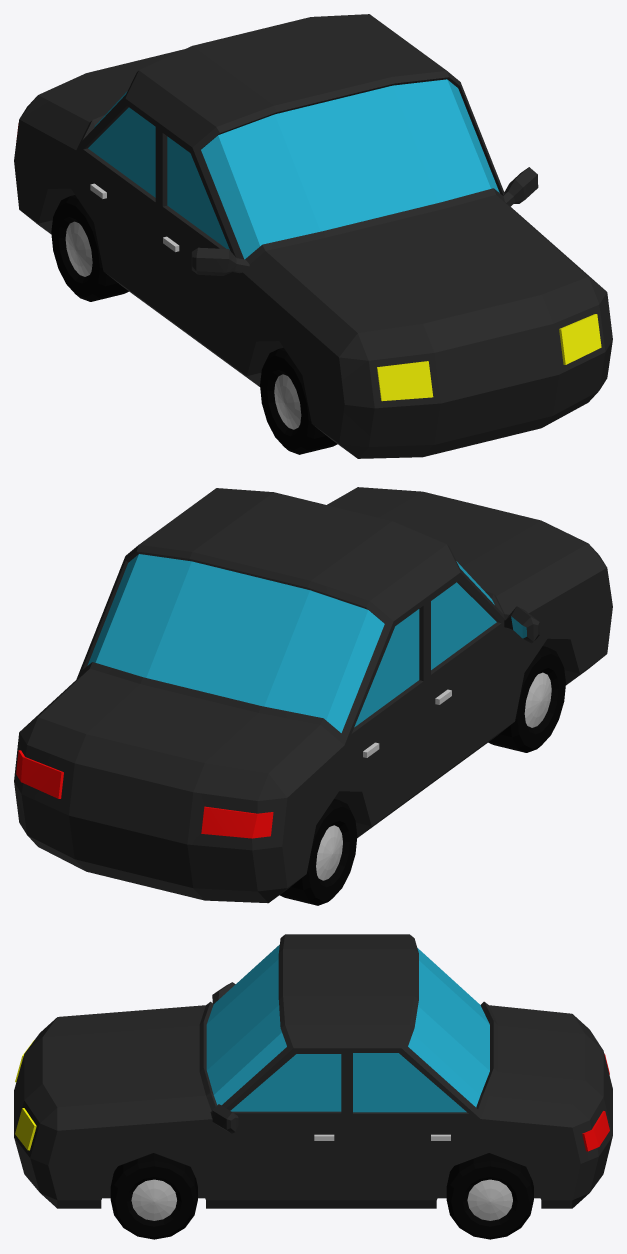
The model's file is mesh_target.obj.
The picture shows the model from 3 angles, top to bottom: view 1: azimuth 30°, elevation 25°; view 2: azimuth 150°, elevation 25°; view 3: azimuth 270°, elevation 25°; orthographic projection. The views are drawn at different scales.
Bounding box in the file's own units: 2.57 × 1.93 × 4.8.
